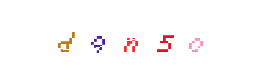5: (110, 0, 190, 80)
D: (26, 0, 106, 80)
N: (97, 0, 177, 80)
O: (153, 0, 233, 80)
Q: (58, 0, 138, 80)
